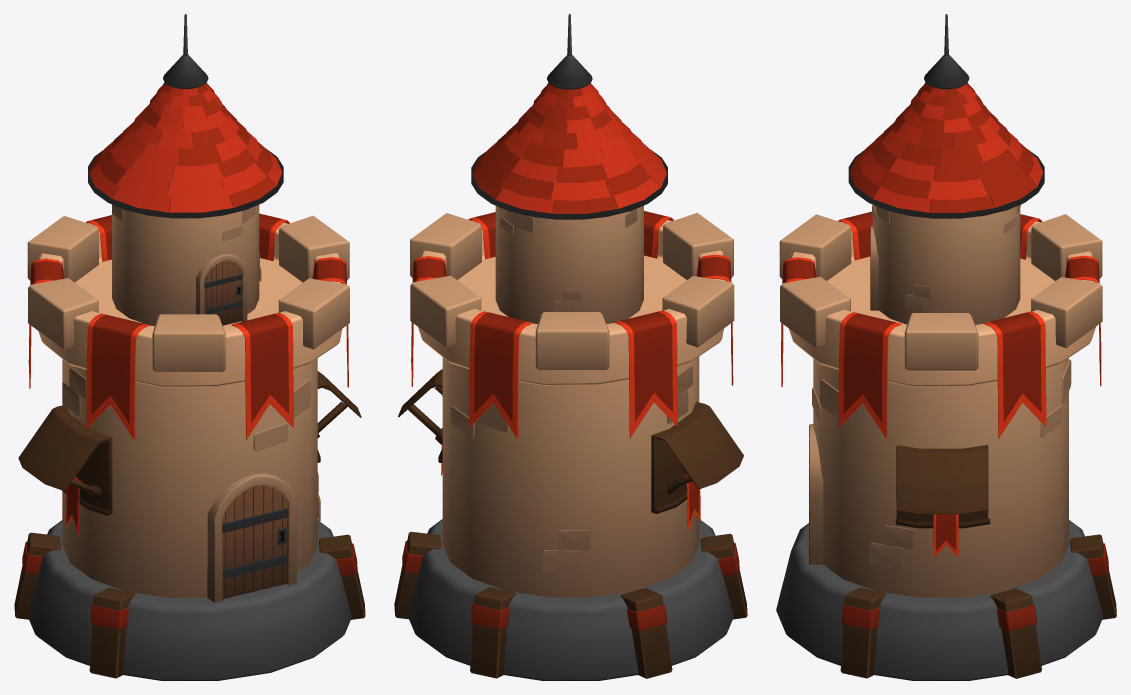
Rendered from TowerWatch_2.fbx.
3 views of the same model, side by side, from view 1: azimuth 30°, elevation 25°; view 2: azimuth 150°, elevation 25°; view 3: azimuth 270°, elevation 25° (orthographic).
Visible parts, largest first — view 1: TowerWatch_2; view 2: TowerWatch_2; view 3: TowerWatch_2.
Boxes of the visible parts, bbox=[...] form: TowerWatch_2: bbox=[14, 14, 365, 680]; TowerWatch_2: bbox=[394, 14, 747, 680]; TowerWatch_2: bbox=[776, 14, 1116, 680].
Bounding box in the file's own units: 302 × 552 × 284.
